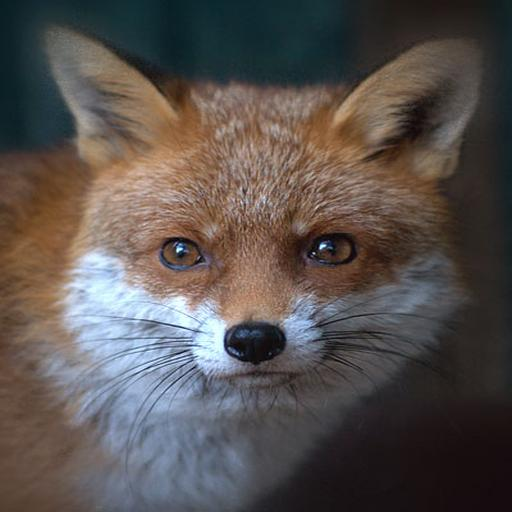Fox: (0, 0, 492, 508)
